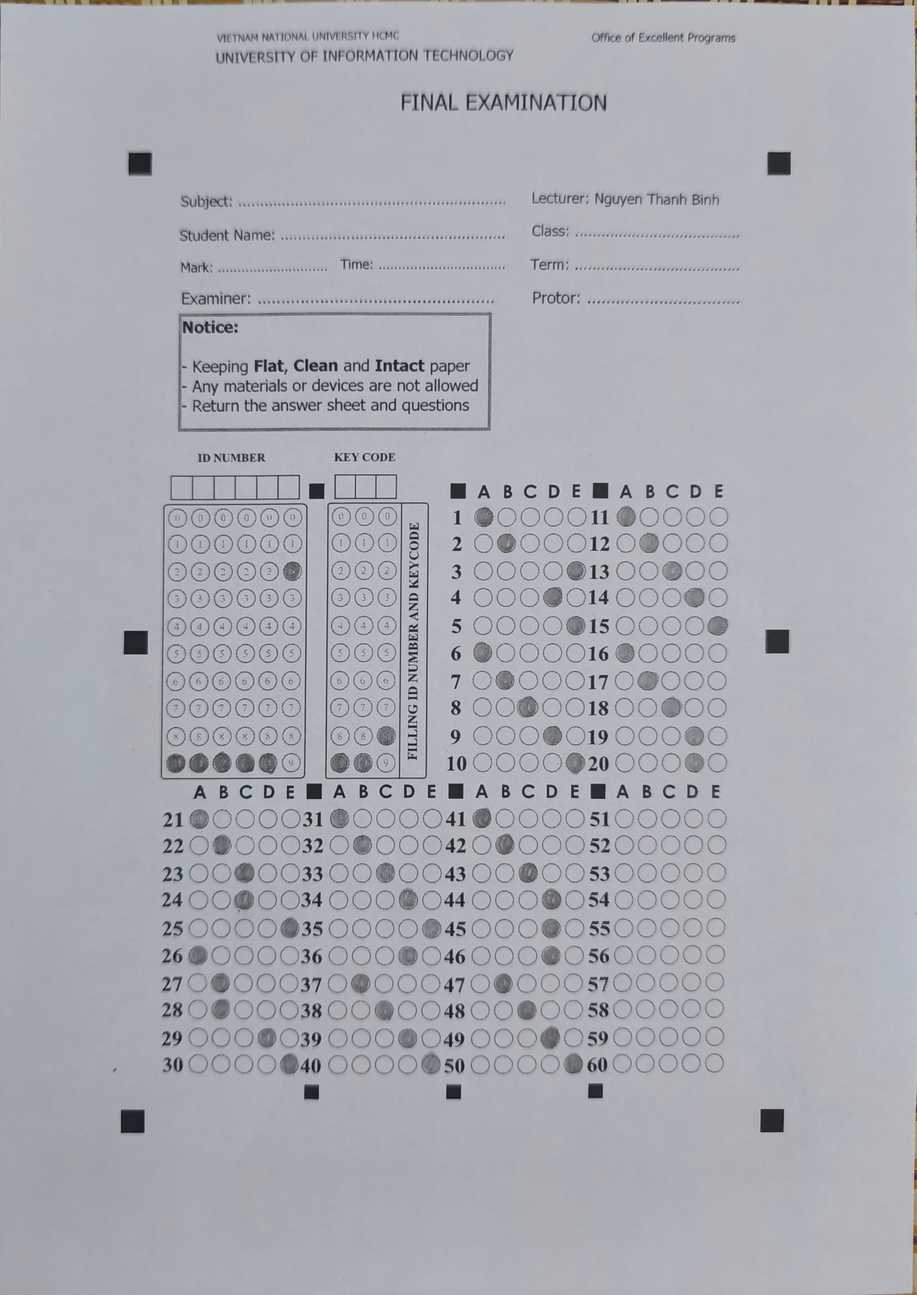info_region: (163, 505, 401, 778)
paper_region: (140, 160, 777, 1130)
q_1_20: (456, 491, 732, 792)
q_21_60: (163, 792, 731, 1094)
